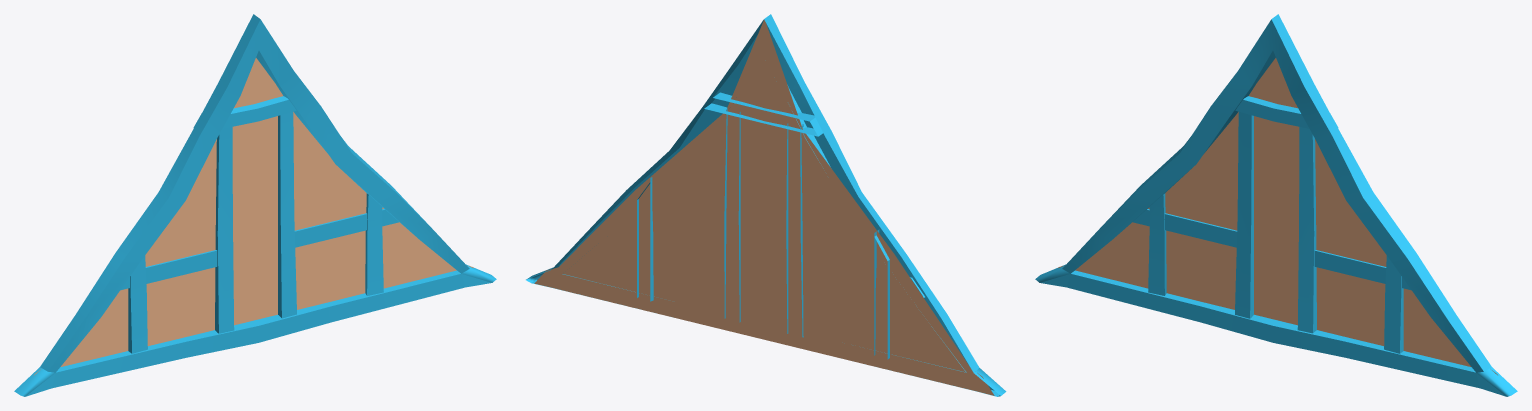
Rendered from Roof_Wall_01_wide.fbx.
3 renders of one model, left to right at view 1: azimuth 30°, elevation 25°; view 2: azimuth 150°, elevation 25°; view 3: azimuth 330°, elevation 25°, orthographic.
Parts seen in each view (by area): view 1: Roof_Wall_01_wide; view 2: Roof_Wall_01_wide; view 3: Roof_Wall_01_wide.
Part boxes in pixels (bbox=[...]): Roof_Wall_01_wide: bbox=[14, 14, 496, 396]; Roof_Wall_01_wide: bbox=[526, 14, 1006, 396]; Roof_Wall_01_wide: bbox=[1035, 14, 1517, 396].
Bounding box in the file's own units: 1048 × 681 × 37.94.
